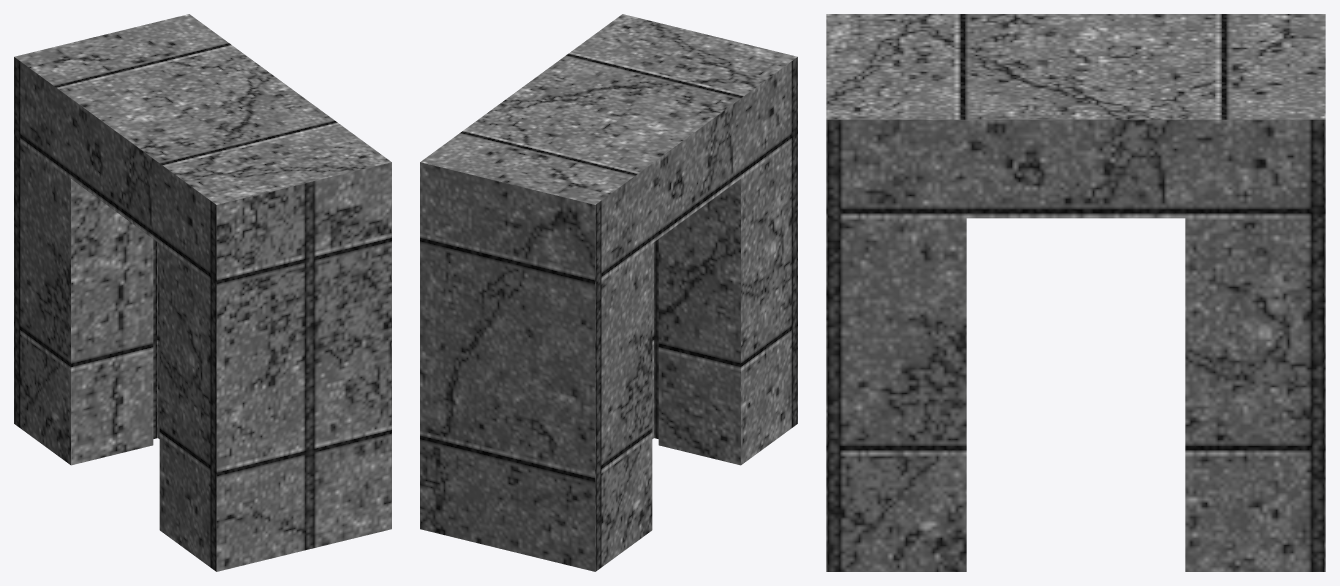
File: DoorFrame0.5.fbx
The picture shows the model from 3 angles, left to right: view 1: azimuth 30°, elevation 25°; view 2: azimuth 150°, elevation 25°; view 3: azimuth 270°, elevation 25°; orthographic projection. The views are drawn at different scales.
Visible parts, largest first — view 1: Cube.003; view 2: Cube.003; view 3: Cube.003.
Boxes of the visible parts, x1,y1,x2,y2 form: Cube.003: [14, 14, 391, 571]; Cube.003: [420, 14, 797, 571]; Cube.003: [826, 14, 1325, 571].
Size of the model in its own units: 200 by 400 by 400.
